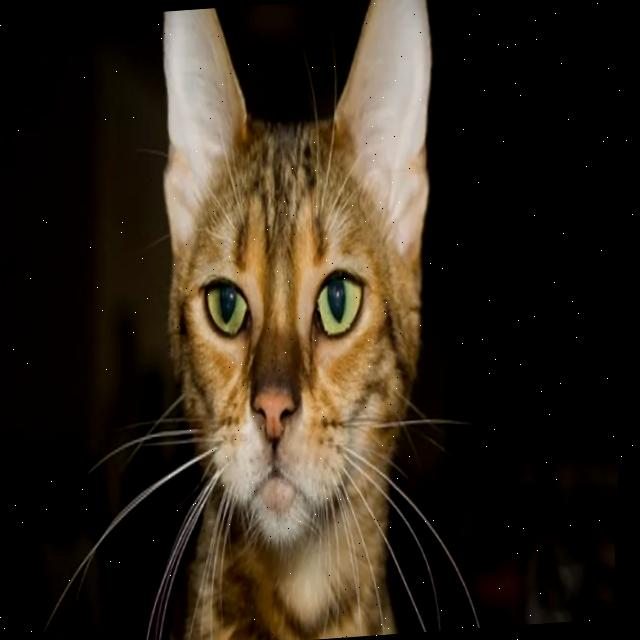Toyger: (131, 0, 478, 640)
